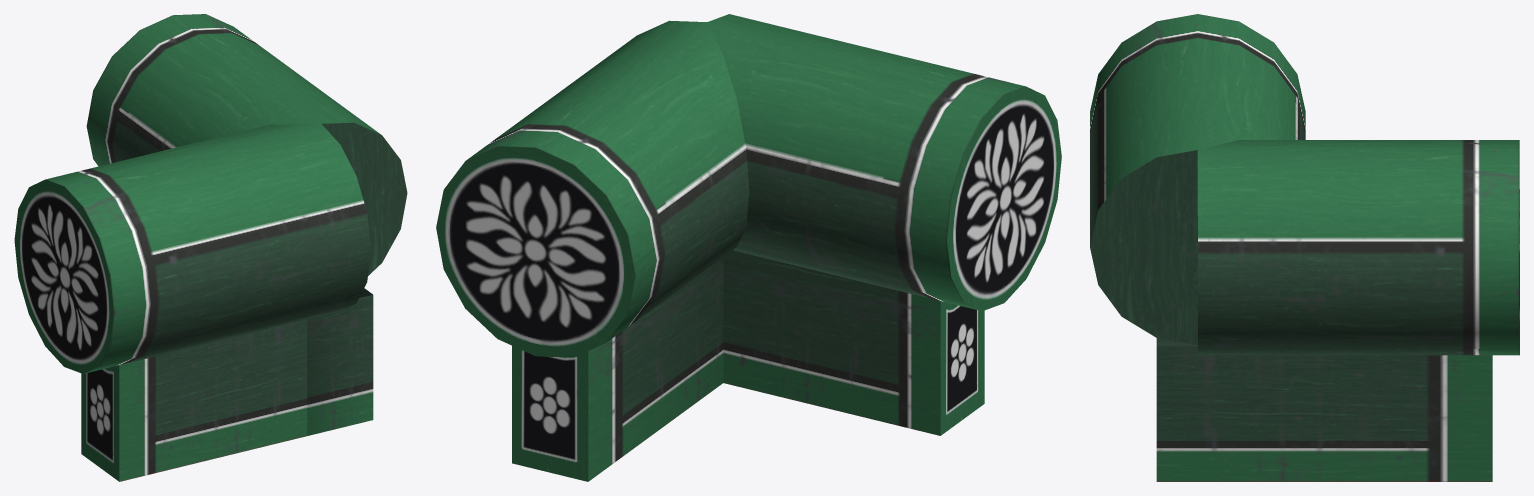
The model's file is SM_Purlin04b.fbx.
3 renders of one model, left to right at view 1: azimuth 30°, elevation 25°; view 2: azimuth 150°, elevation 25°; view 3: azimuth 270°, elevation 25°, orthographic. The views are drawn at different scales.
Visible parts, largest first — view 1: SM_Purlin04b; view 2: SM_Purlin04b; view 3: SM_Purlin04b.
Boxes of the visible parts, box(x1,y1,x2,y2) form: SM_Purlin04b: box(14, 14, 407, 481); SM_Purlin04b: box(436, 14, 1061, 481); SM_Purlin04b: box(1090, 14, 1519, 481).
Size of the model in its own units: 42.73 by 42.74 by 34.51.
1 material, 1 textured.
